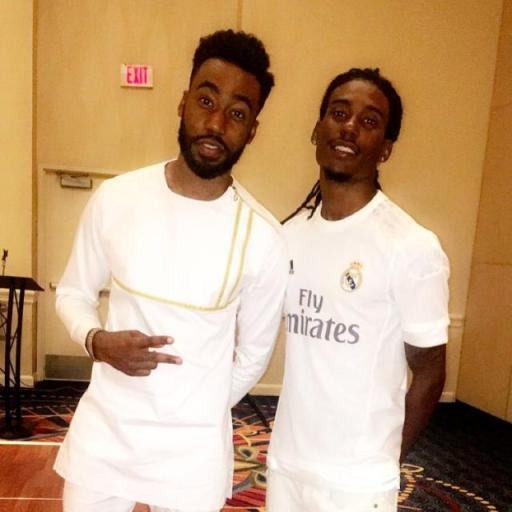Emirates: (280, 284, 362, 346)
